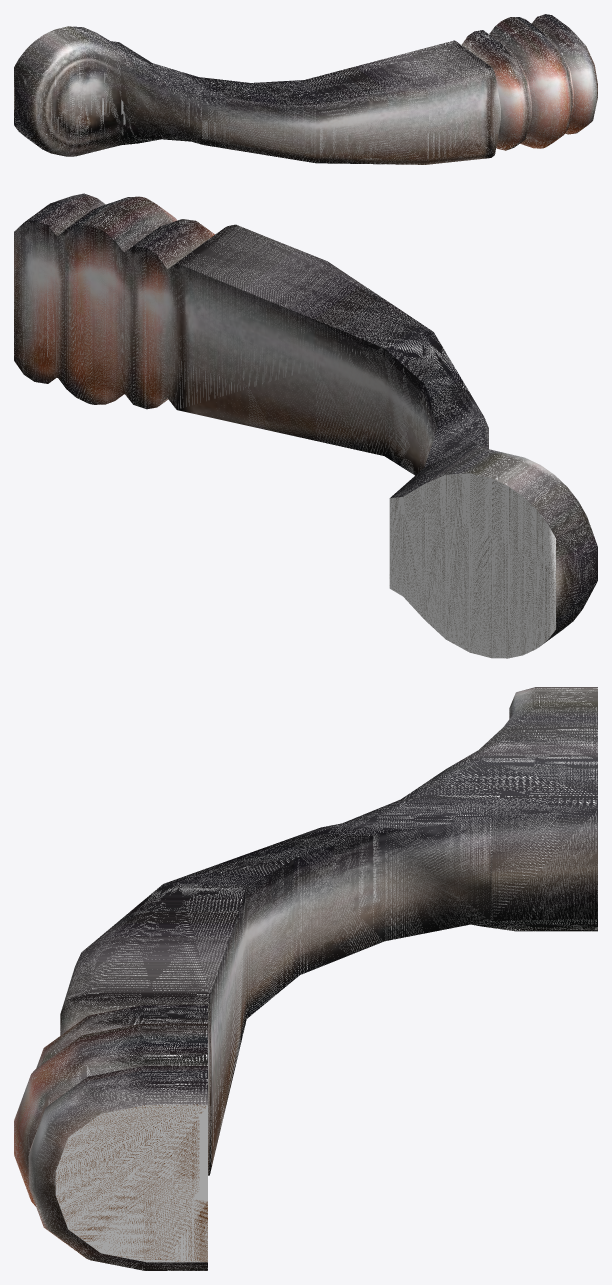
Rendered from original-124.obj.
3 views of the same model, one above another, from view 1: azimuth 30°, elevation 25°; view 2: azimuth 150°, elevation 25°; view 3: azimuth 270°, elevation 25° (orthographic). The views are drawn at different scales.
Visible parts, largest first — view 1: mesh37/mesh37-geometry#mesh37-geometry; view 2: mesh37/mesh37-geometry#mesh37-geometry; view 3: mesh37/mesh37-geometry#mesh37-geometry.
Part boxes in pixels (x1,y1,x2,y2): mesh37/mesh37-geometry#mesh37-geometry: (14,14,597,164); mesh37/mesh37-geometry#mesh37-geometry: (14,193,597,658); mesh37/mesh37-geometry#mesh37-geometry: (14,687,597,1270).
Bounding box in the file's own units: 0.0872 × 0.021 × 0.0506.
Materials: 4 (2 with a texture image).
